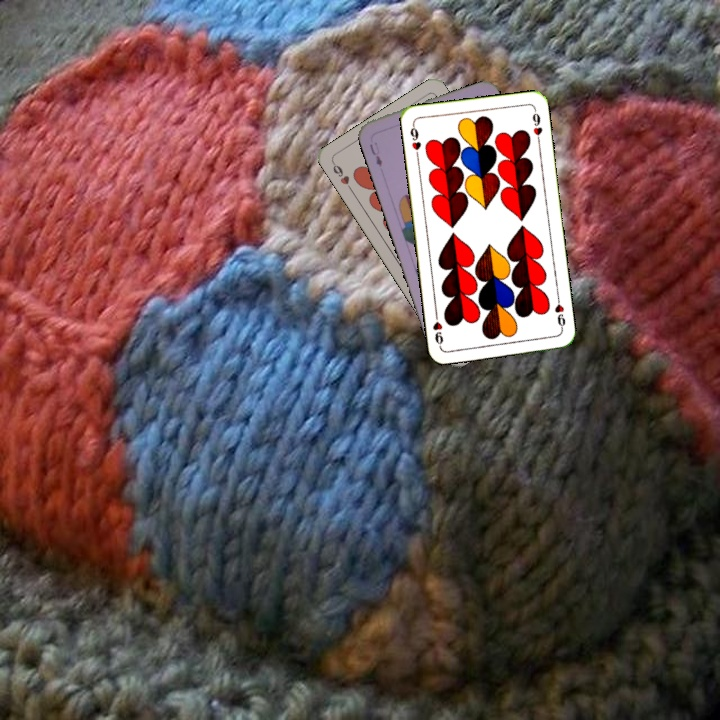EU: (365, 138, 385, 169)
H9: (328, 158, 356, 194), (406, 120, 424, 161), (551, 293, 568, 333)
